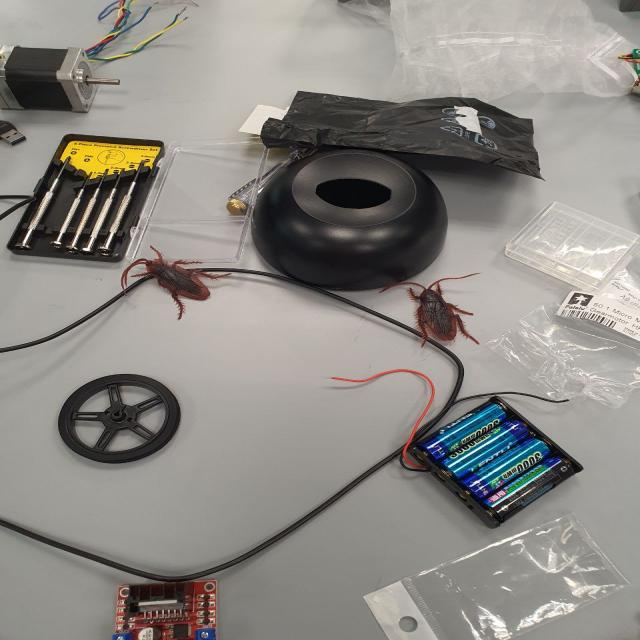Cockroach: (371, 267, 494, 353), (120, 238, 237, 326)
